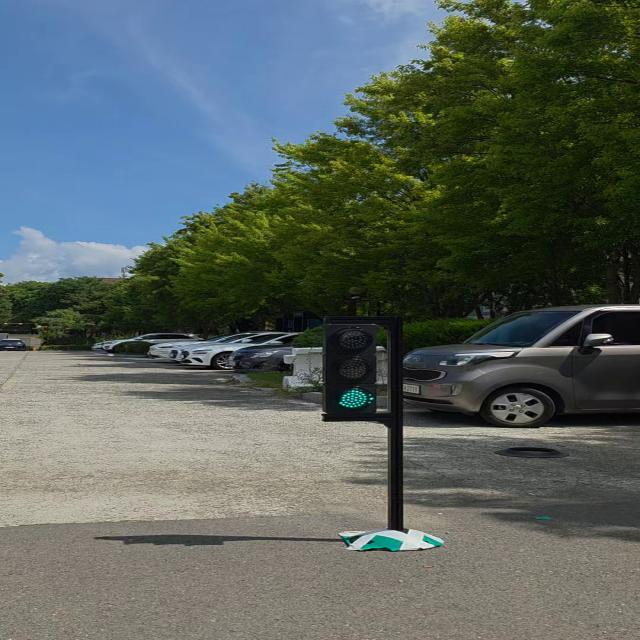green: (322, 318, 379, 422)
